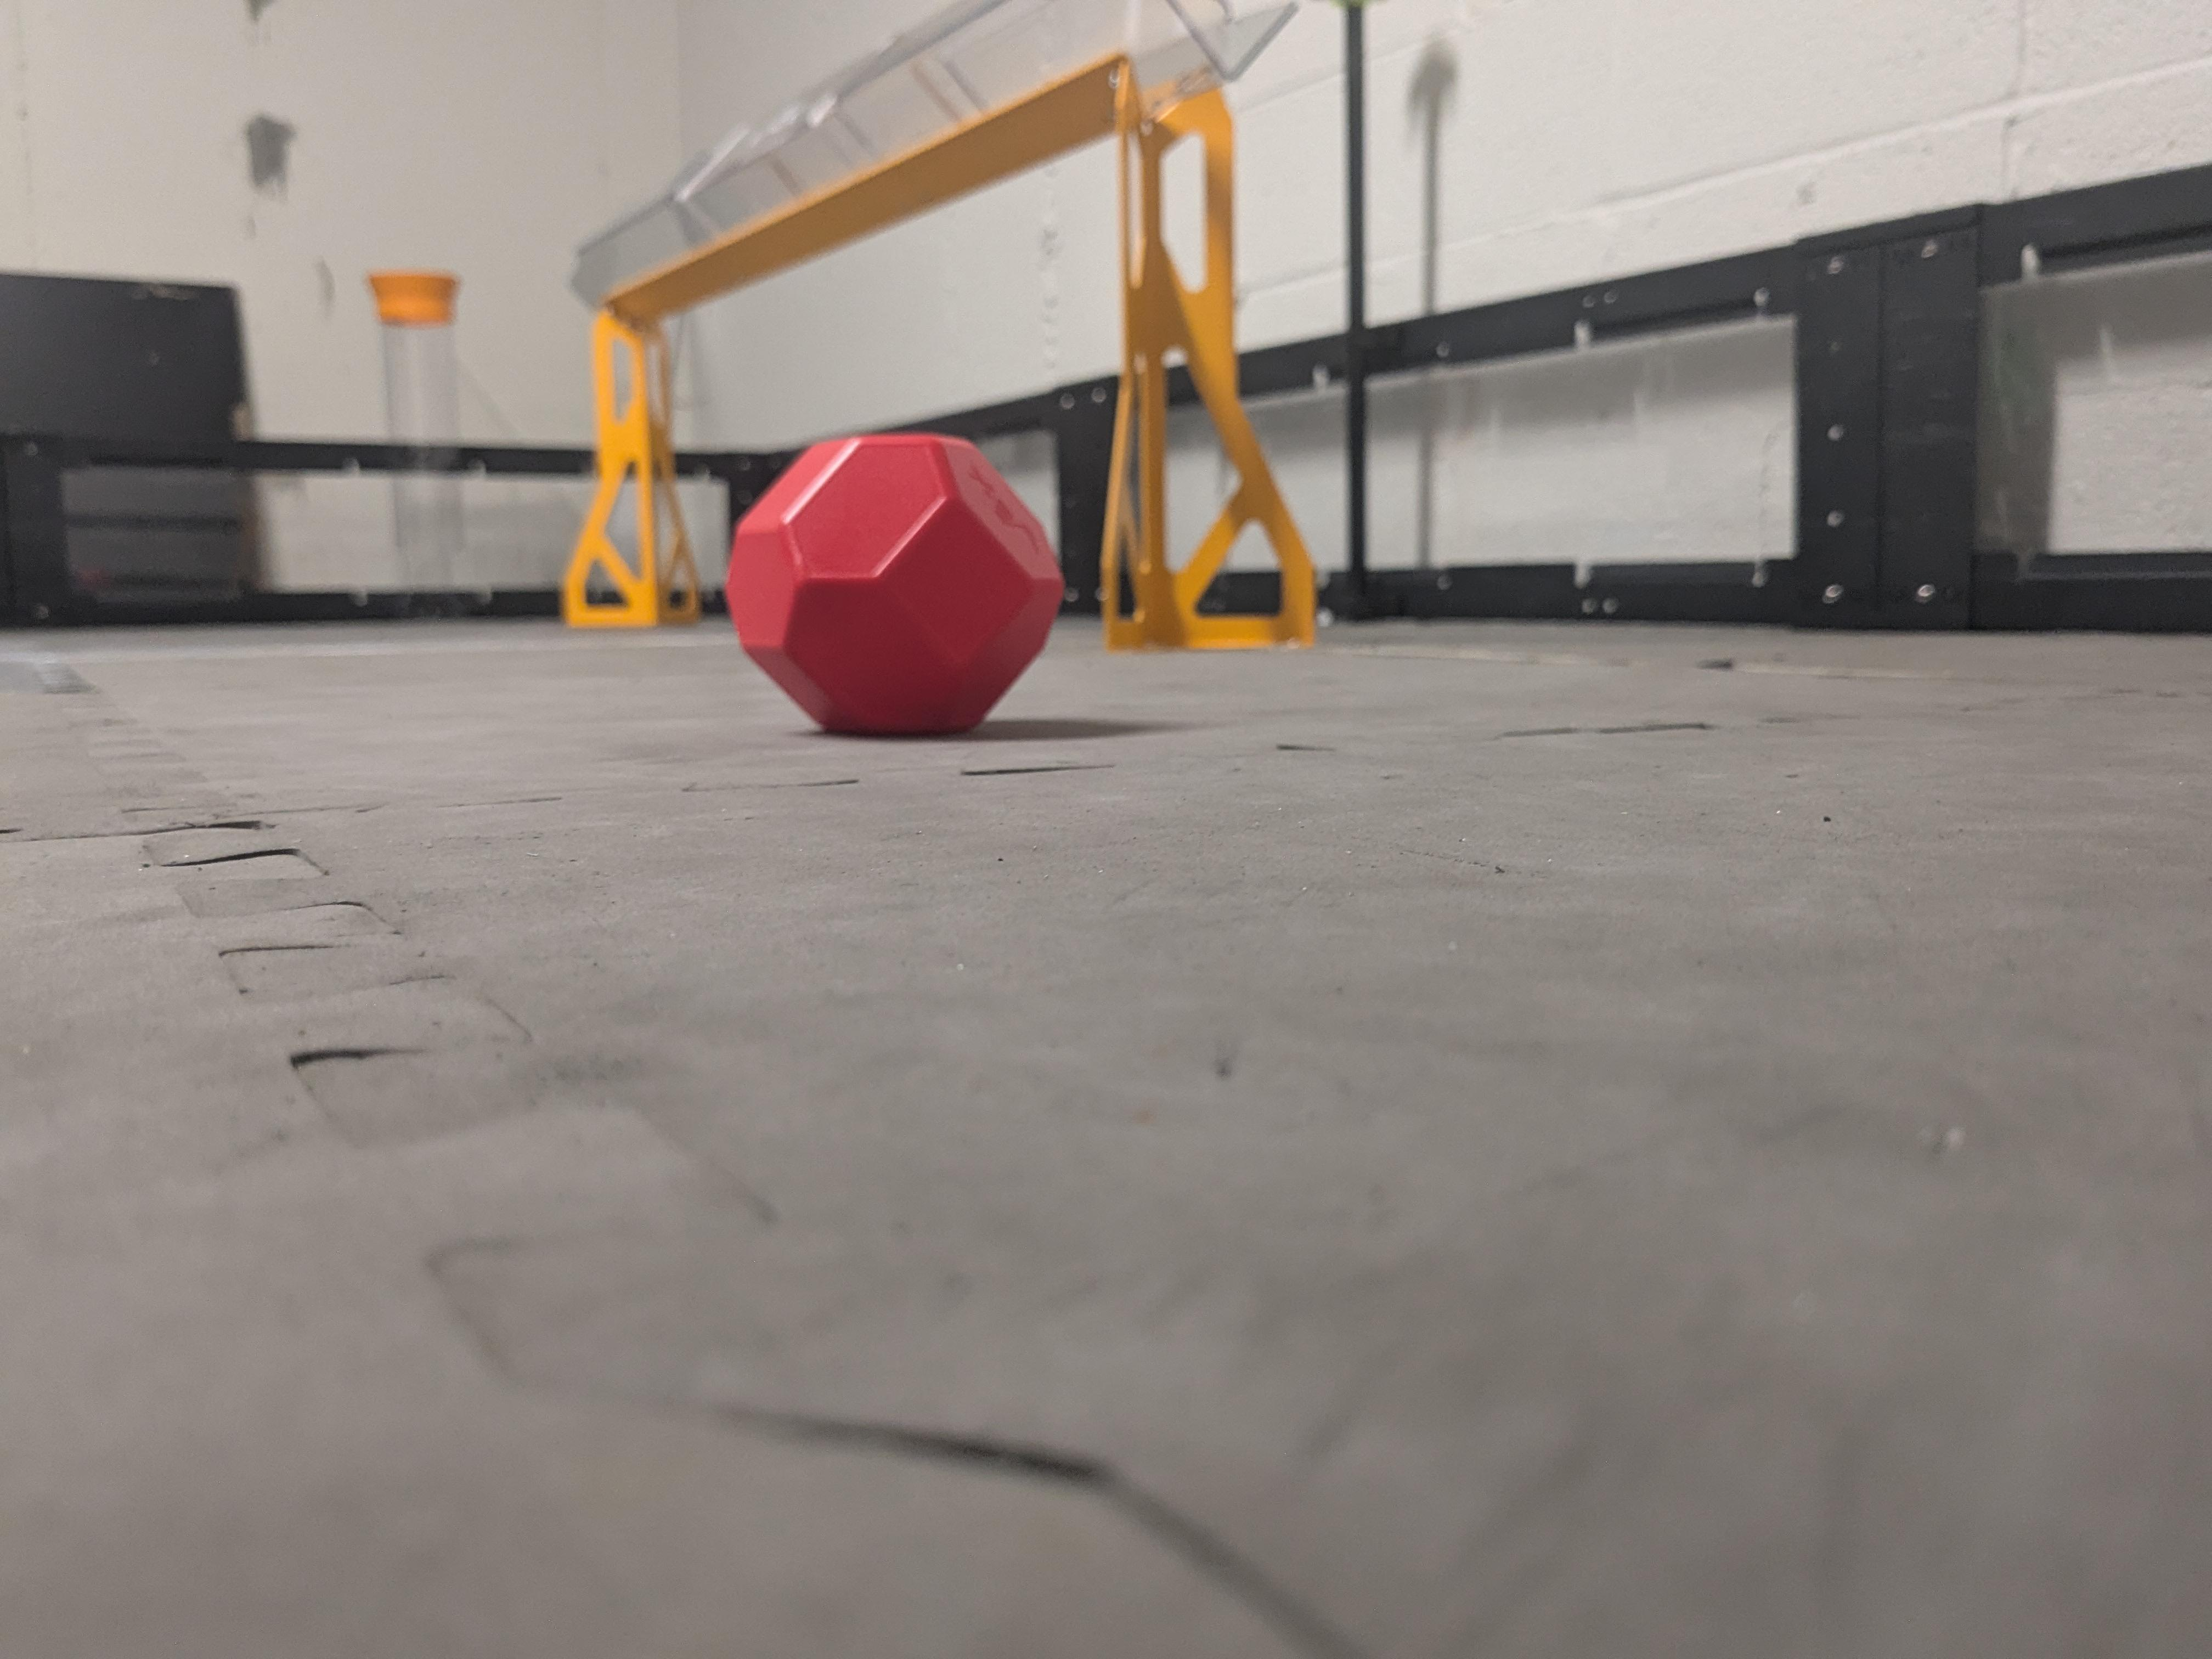Vex-Pieces-RED: (725, 437, 1061, 734)
